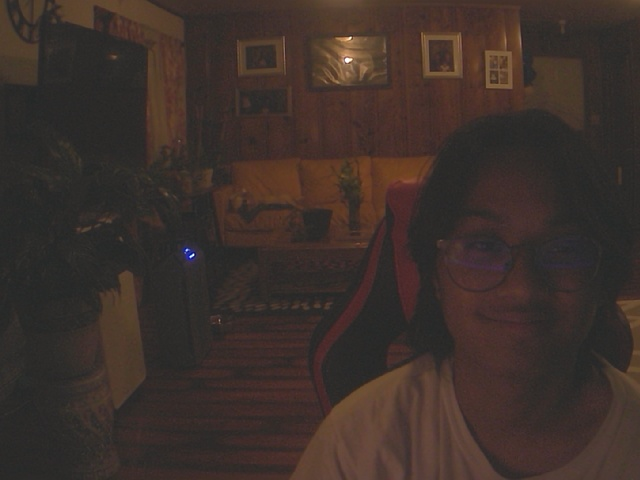happy: (403, 112, 637, 394)
